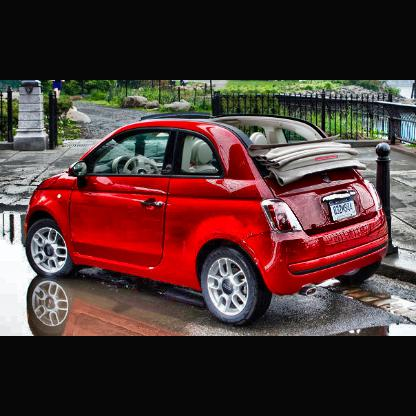FIAT 500 Convertible 2012: (23, 115, 392, 325)
